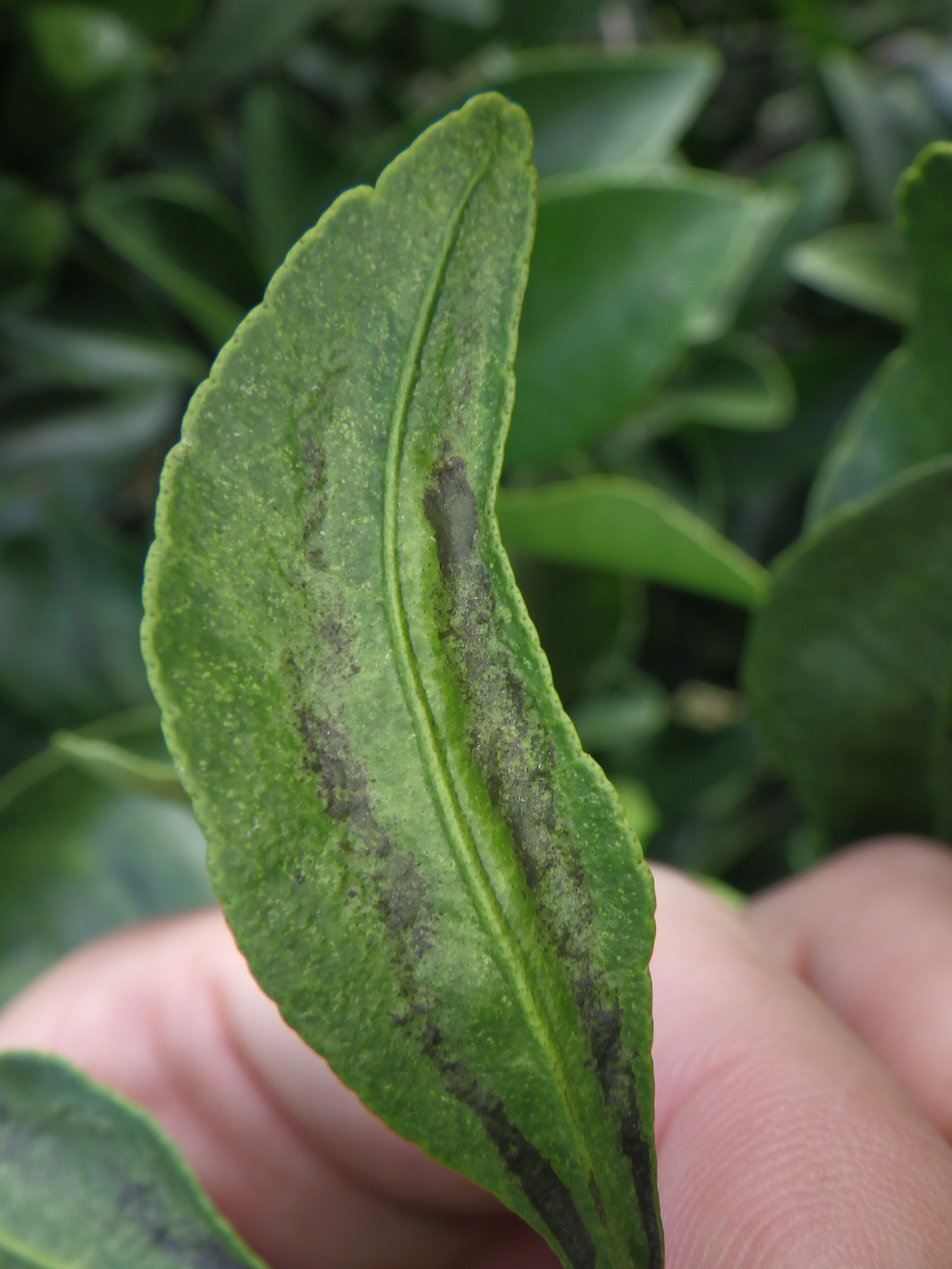Thrips_Damage: (301, 716, 596, 1268), (424, 451, 583, 936), (570, 957, 615, 1079)
